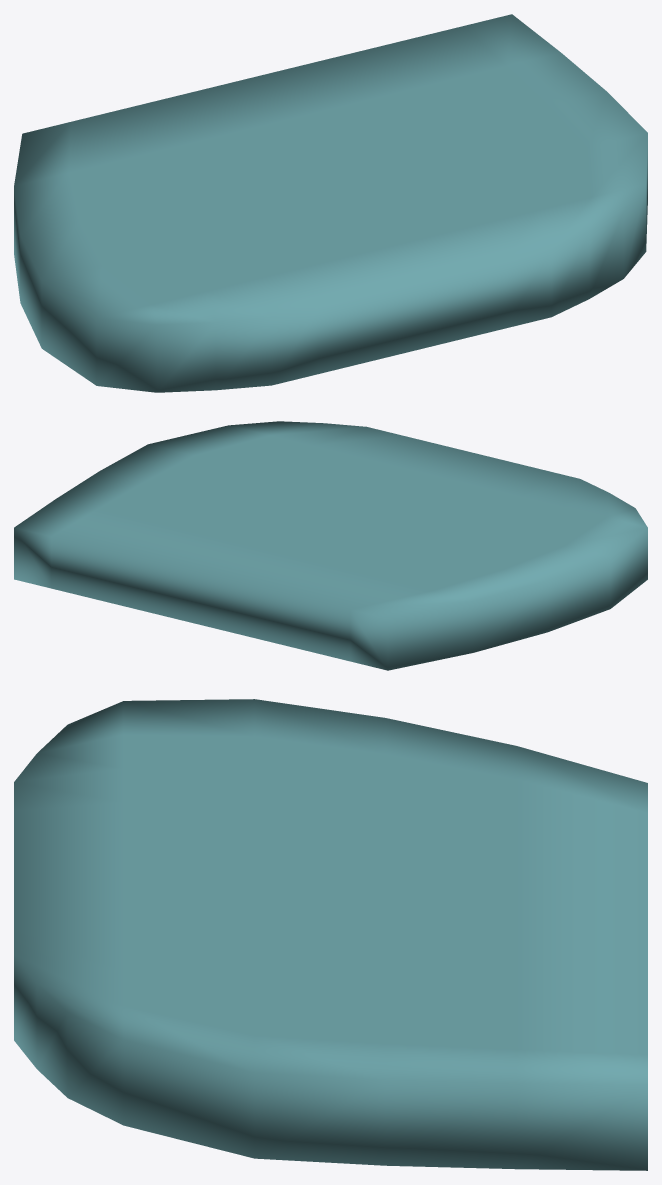
File: Ingredient_Lamb_Half.fbx
3 renders of one model, top to bottom at view 1: azimuth 30°, elevation 25°; view 2: azimuth 150°, elevation 25°; view 3: azimuth 270°, elevation 25°, orthographic. The views are drawn at different scales.
Parts seen in each view (by area): view 1: Lamb_Half; view 2: Lamb_Half; view 3: Lamb_Half.
Boxes of the visible parts, x1,y1,x2,y2 form: Lamb_Half: (14,14,647,392); Lamb_Half: (14,421,647,670); Lamb_Half: (14,699,647,1170).
Size of the model in its own units: 32.89 by 3.41 by 22.83.
